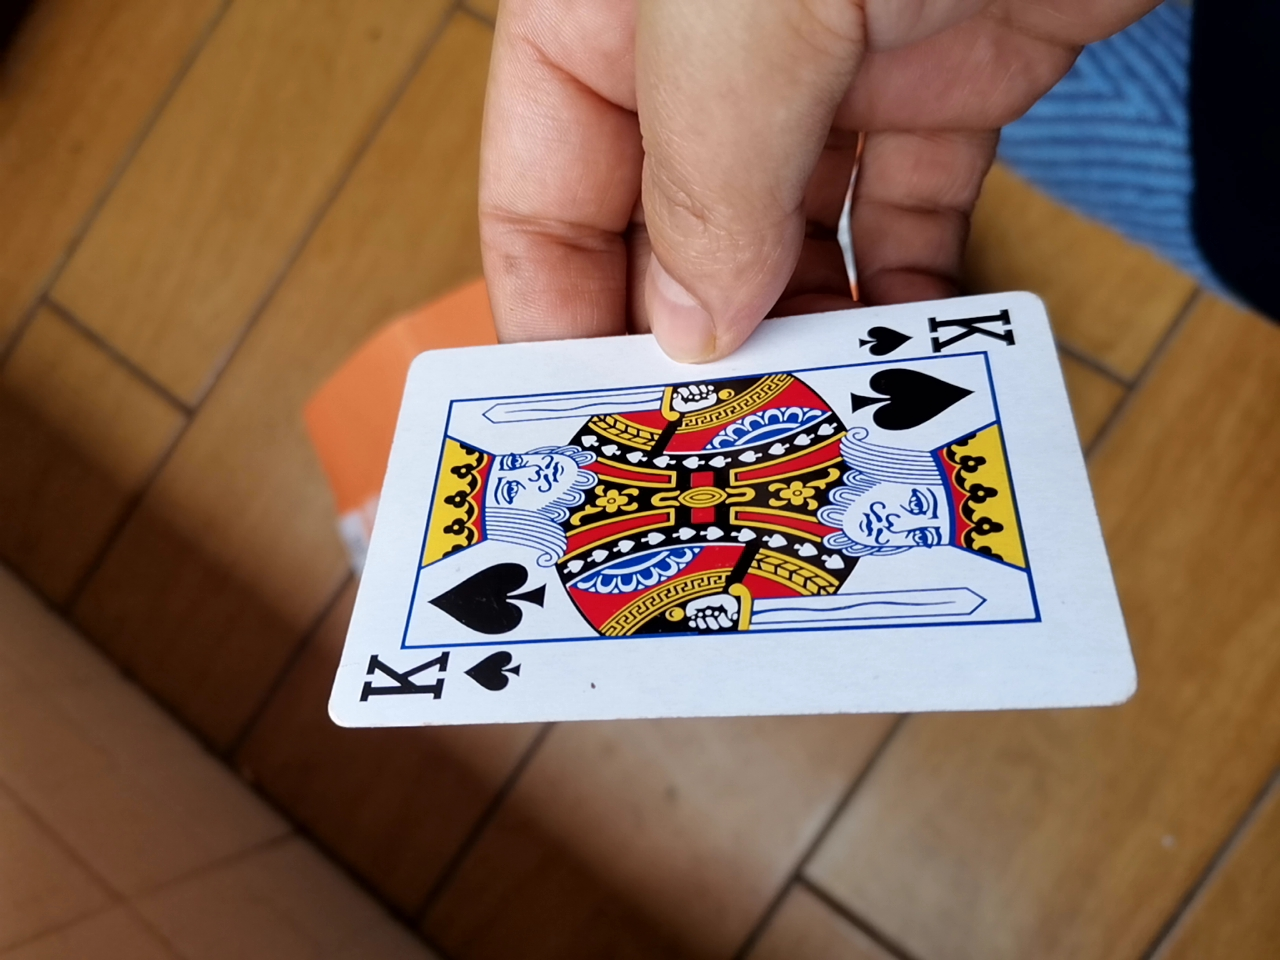ht k: (309, 284, 1126, 750)
